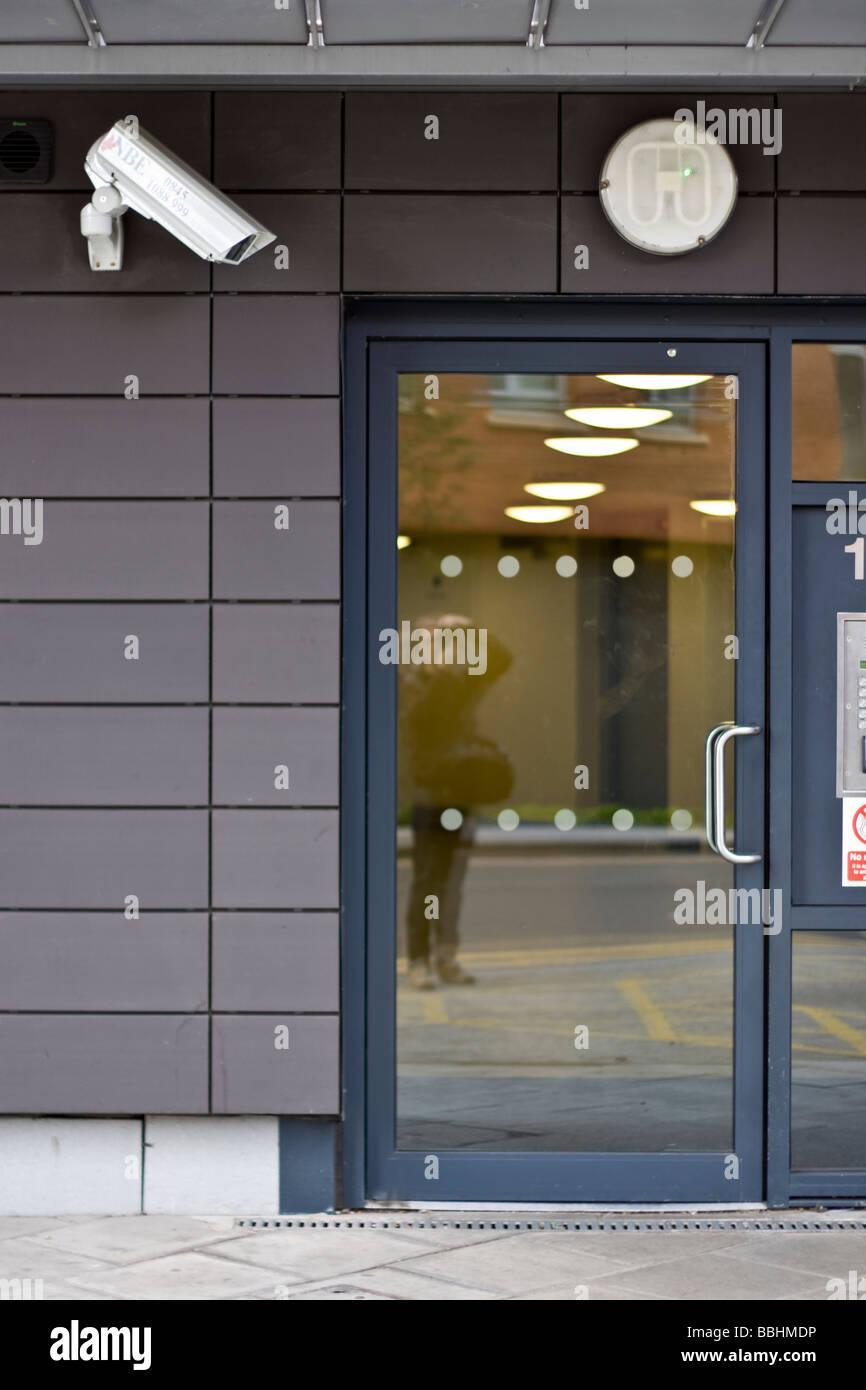Security camera: (78, 112, 278, 272)
